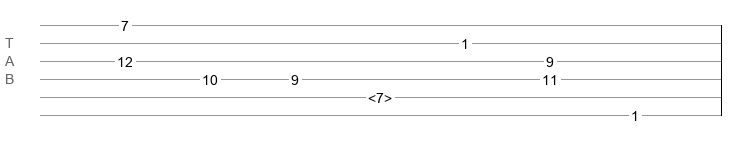1: (461, 36, 469, 46), (631, 108, 639, 118)
10: (202, 72, 218, 82)
11: (542, 72, 558, 82)
12: (117, 54, 133, 64)
7: (121, 18, 129, 28)
9: (291, 72, 299, 82), (546, 54, 554, 64)
harmonic: (368, 90, 392, 100)
